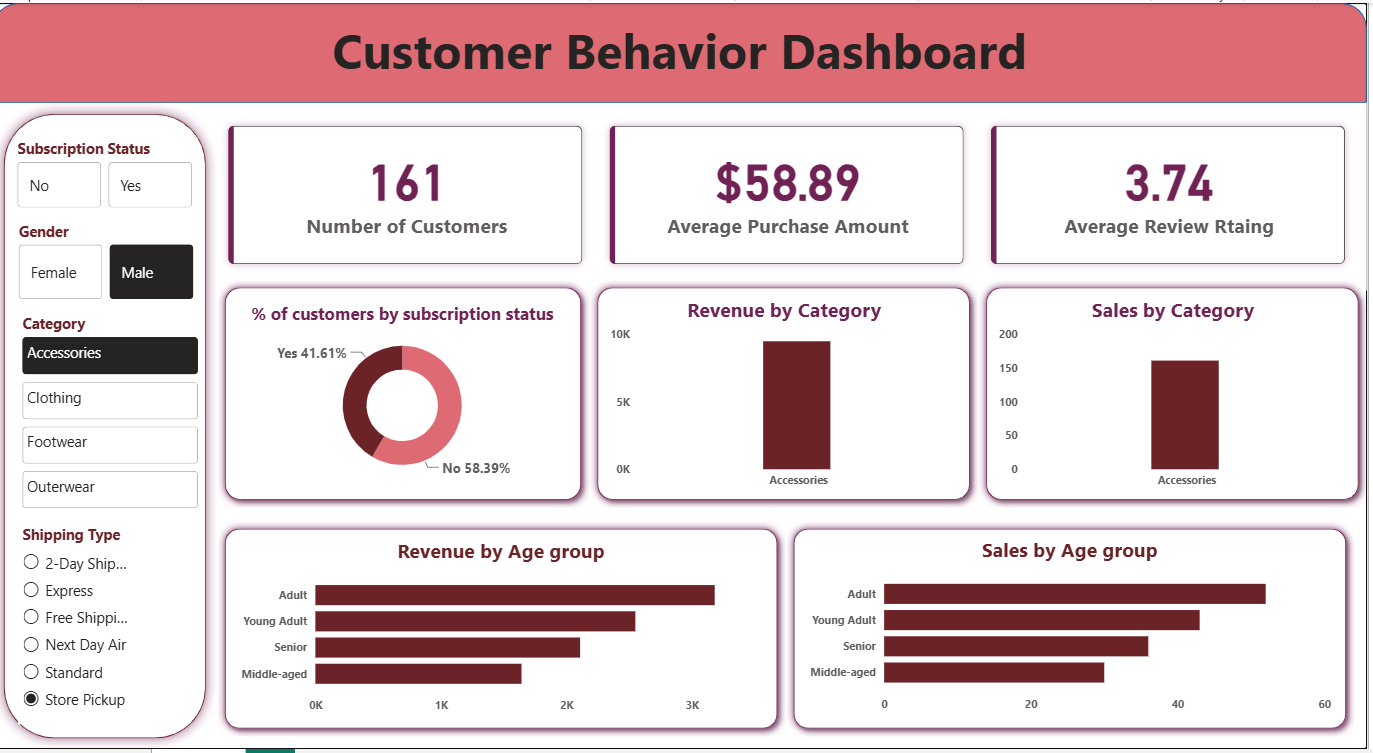

The page's visual inventory and layout, read from the dashboard file:
{"tool":"powerbi","page":{"name":"Page 1","canvas":[1510,820],"ordinal":0},"visuals":[{"type":"cardVisual","fields":{"Data":["customer.Number of Customers","customer.Average Purchase Amount","customer.Average Review Rtaing"]},"box":[230.8,107.2,1279.2,208.8],"z":0},{"type":"shape","box":[0,0,1510,109.9],"z":1000},{"type":"textbox","box":[0,9.6,1510,138.8],"z":2000},{"type":"group","id":"g1","title":"Group 2","box":[655.4,303.7,427.3,251.4],"z":3000},{"type":"shape","box":[655.4,303.7,427.3,251.4],"z":3000,"group":"g1"},{"type":"shape","box":[1082.7,303.7,427.3,251.4],"z":3000,"group":"g3"},{"type":"shape","box":[245.9,569.2,625.2,237.7],"z":3000,"group":"g4"},{"type":"shape","box":[871.1,569.2,625.2,237.7],"z":3000,"group":"g5"},{"type":"group","id":"g2","title":"Group 1","box":[245.9,303.7,409.5,251.4],"z":4000},{"type":"shape","box":[245.9,303.7,409.5,251.4],"z":4000,"group":"g2"},{"type":"group","id":"g3","title":"Group 3","box":[1082.7,303.7,427.3,251.4],"z":5000},{"type":"clusteredColumnChart","title":"Revenue by Category","fields":{"Y":["Sum(customer.purchase_amount)"],"Category":["customer.category"]},"box":[673.3,321.6,393,221.2],"z":5000,"group":"g1"},{"type":"clusteredColumnChart","title":"Sales by Category","fields":{"Y":["CountNonNull(customer.customer_id)"],"Category":["customer.category"]},"box":[1100.6,321.6,393,221.2],"z":5000,"group":"g3"},{"type":"shape","box":[0,109.9,245.9,710.4],"z":6000},{"type":"donutChart","title":"% of customers by subscription status","fields":{"Category":["customer.subscription_status"],"Y":["CountNonNull(customer.customer_id)"]},"box":[258.3,328.4,383.3,203.4],"z":6001,"group":"g2"},{"type":"advancedSlicerVisual","title":"Subscription Status","fields":{"Values":["customer.subscription_status"]},"box":[22,148.4,203.4,82.4],"z":7000},{"type":"advancedSlicerVisual","title":"Gender","fields":{"Values":["customer.gender"]},"box":[23.4,239.1,203.4,92.1],"z":8000},{"type":"advancedSlicerVisual","title":"Category","fields":{"Values":["customer.category"]},"box":[27.5,340.8,203.4,221.2],"z":9000},{"type":"listSlicer","title":"Shipping Type","fields":{"Values":["customer.shipping_type"]},"box":[27.5,573,145.6,219.8],"z":10000},{"type":"group","id":"g4","title":"Group 2","box":[245.9,569.2,625.2,237.7],"z":11000},{"type":"clusteredBarChart","title":"Revenue by Age group","fields":{"Y":["Sum(customer.purchase_amount)"],"Category":["customer.age_group"]},"box":[266.6,586.7,584,203.4],"z":12000},{"type":"group","id":"g5","title":"Group 2","box":[871.1,569.2,625.2,237.7],"z":12001},{"type":"clusteredBarChart","title":"Sales by Age group","fields":{"Y":["CountNonNull(customer.customer_id)"],"Category":["customer.age_group"]},"box":[891.7,585.3,584,203.4],"z":12002}]}

Visuals, with their boxes in screenshot pixels (x1, y1, x2, y2), scaled from the page's 1510x820 canvas onto the 1373x753 screenshot:
cardVisual - customer.Number of Customers x customer.Average Purchase Amount: x1=210 y1=98 x2=1372 y2=290
shape: x1=0 y1=0 x2=1372 y2=101
textbox: x1=0 y1=9 x2=1372 y2=136
"Group 2" group: x1=596 y1=279 x2=984 y2=510
shape: x1=596 y1=279 x2=984 y2=510
shape: x1=984 y1=279 x2=1372 y2=510
shape: x1=224 y1=523 x2=792 y2=741
shape: x1=792 y1=523 x2=1361 y2=741
"Group 1" group: x1=224 y1=279 x2=596 y2=510
shape: x1=224 y1=279 x2=596 y2=510
"Group 3" group: x1=984 y1=279 x2=1372 y2=510
"Revenue by Category" clusteredColumnChart: x1=612 y1=295 x2=970 y2=498
"Sales by Category" clusteredColumnChart: x1=1001 y1=295 x2=1358 y2=498
shape: x1=0 y1=101 x2=224 y2=752
"% of customers by subscription status" donutChart: x1=235 y1=302 x2=583 y2=488
"Subscription Status" advancedSlicerVisual: x1=20 y1=136 x2=205 y2=212
"Gender" advancedSlicerVisual: x1=21 y1=220 x2=206 y2=304
"Category" advancedSlicerVisual: x1=25 y1=313 x2=210 y2=516
"Shipping Type" listSlicer: x1=25 y1=526 x2=157 y2=728
"Group 2" group: x1=224 y1=523 x2=792 y2=741
"Revenue by Age group" clusteredBarChart: x1=242 y1=539 x2=773 y2=726
"Group 2" group: x1=792 y1=523 x2=1361 y2=741
"Sales by Age group" clusteredBarChart: x1=811 y1=537 x2=1342 y2=724
